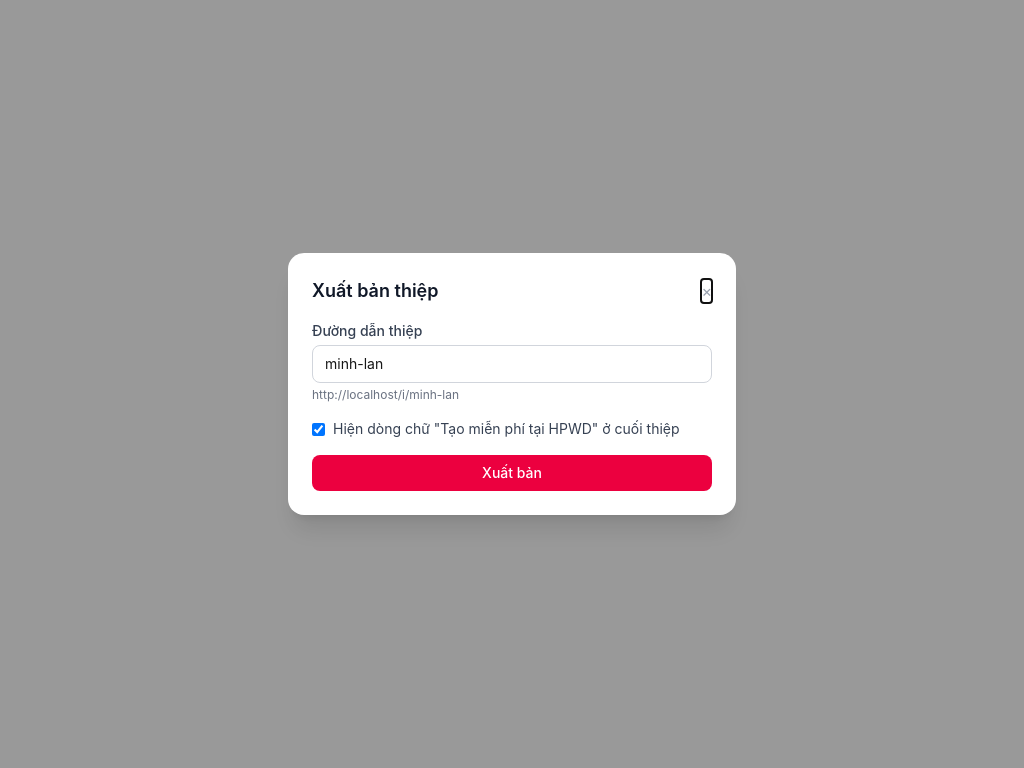
Test: PublishDialog › shows the conflict message and keeps the dialog open on a 409 response
Click the button "Xuất bản" at (512, 473), box [312, 455, 712, 491]
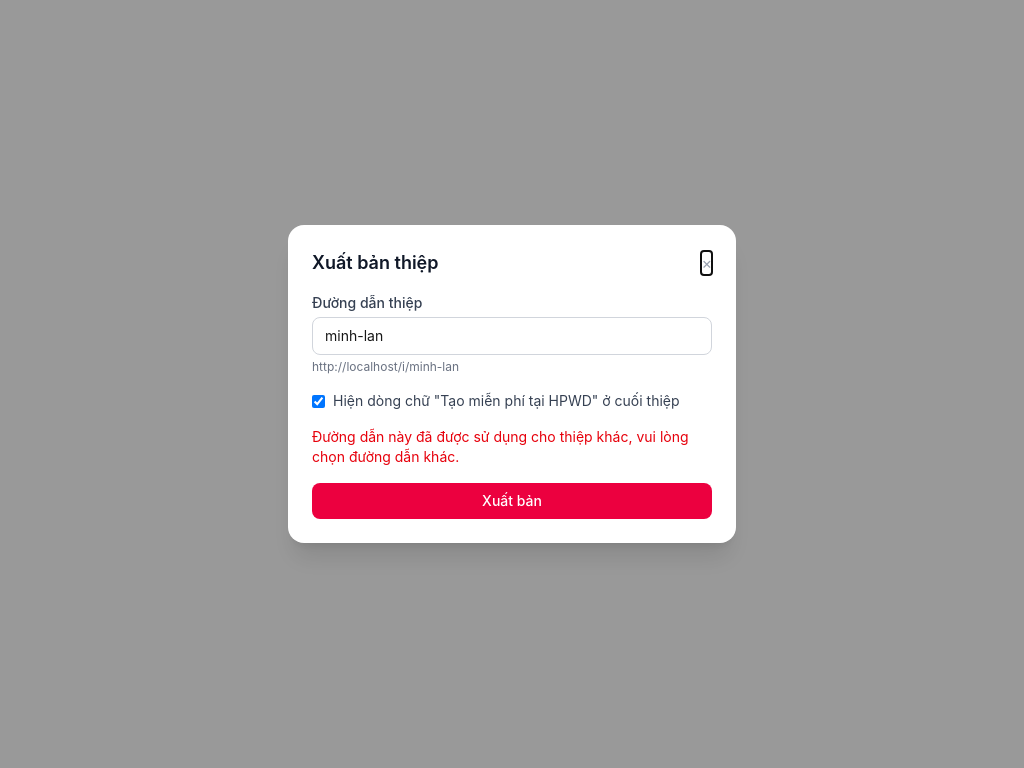
Check: the field labelled "Đường dẫn thiệp" is shown, box [312, 317, 712, 355]
Check: the text "Đường dẫn này đã được sử dụng cho thiệp khác, vui lòng chọn đường dẫn khác." is shown, box [312, 427, 712, 467]
